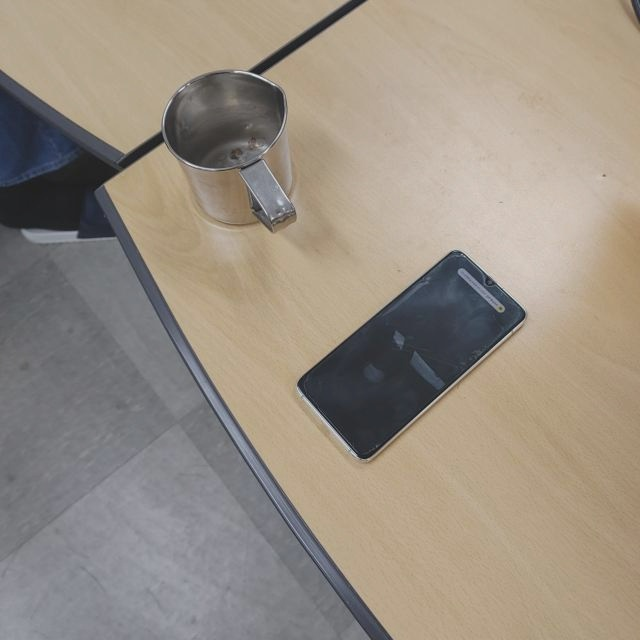cup: (161, 67, 296, 233)
phone: (295, 246, 529, 466)
